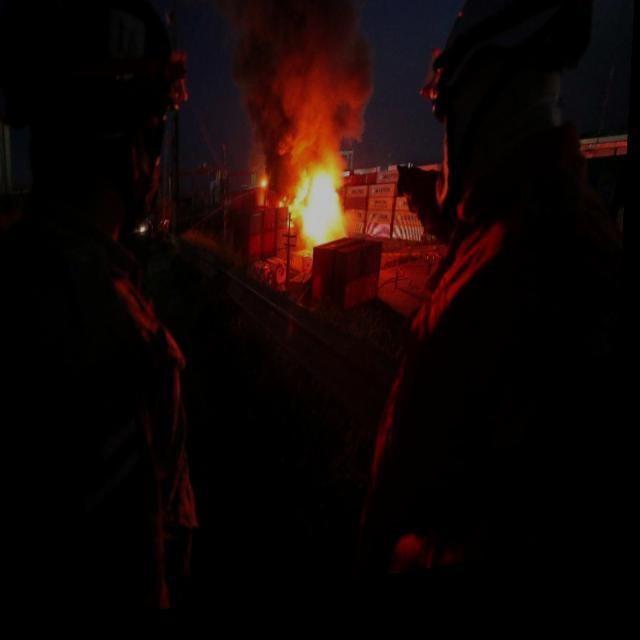Fire: (292, 174, 354, 258)
